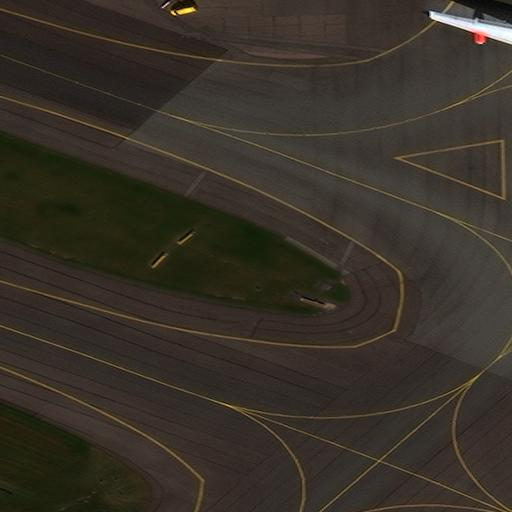Large Civil Transport: (430, 0, 511, 79)
